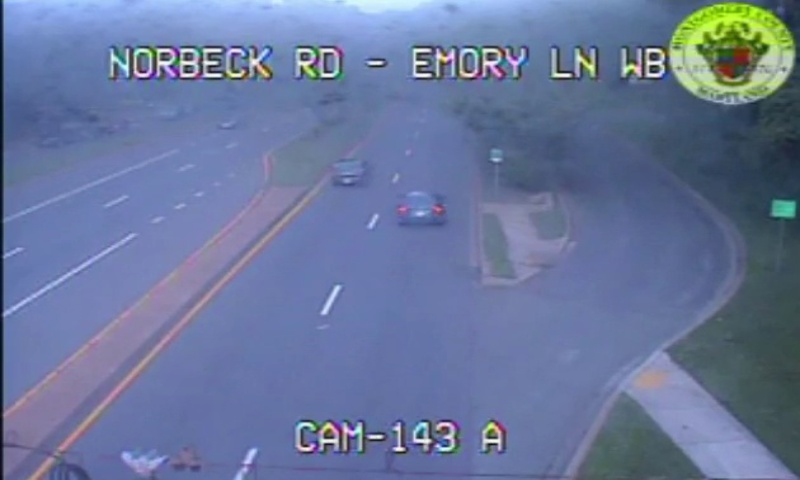car: (398, 192, 444, 222), (329, 159, 365, 188)
